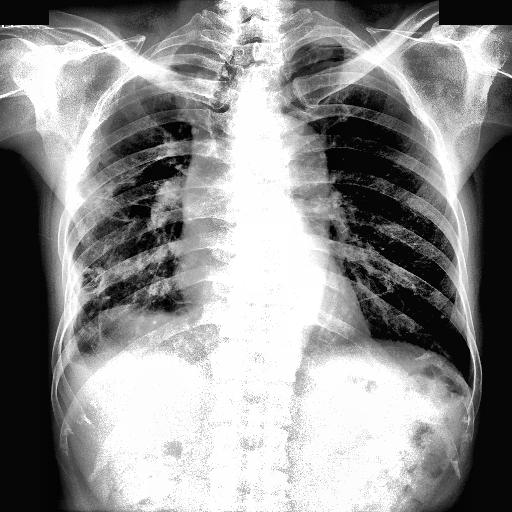0- Aortic enlargement: (247, 116, 328, 188)
1- Atelectasis: (124, 34, 202, 108)
10- Pleural effusion: (56, 306, 172, 377), (50, 326, 150, 378)
11- Pleural thickening: (116, 46, 216, 138), (50, 326, 150, 378), (128, 36, 196, 80), (304, 30, 384, 66), (62, 310, 104, 360), (63, 258, 80, 325)
13- Pulmonary fibrosis: (68, 146, 180, 334), (53, 138, 143, 348), (76, 165, 138, 296), (124, 34, 202, 108)
7- Lung Opacity: (56, 306, 172, 377)
